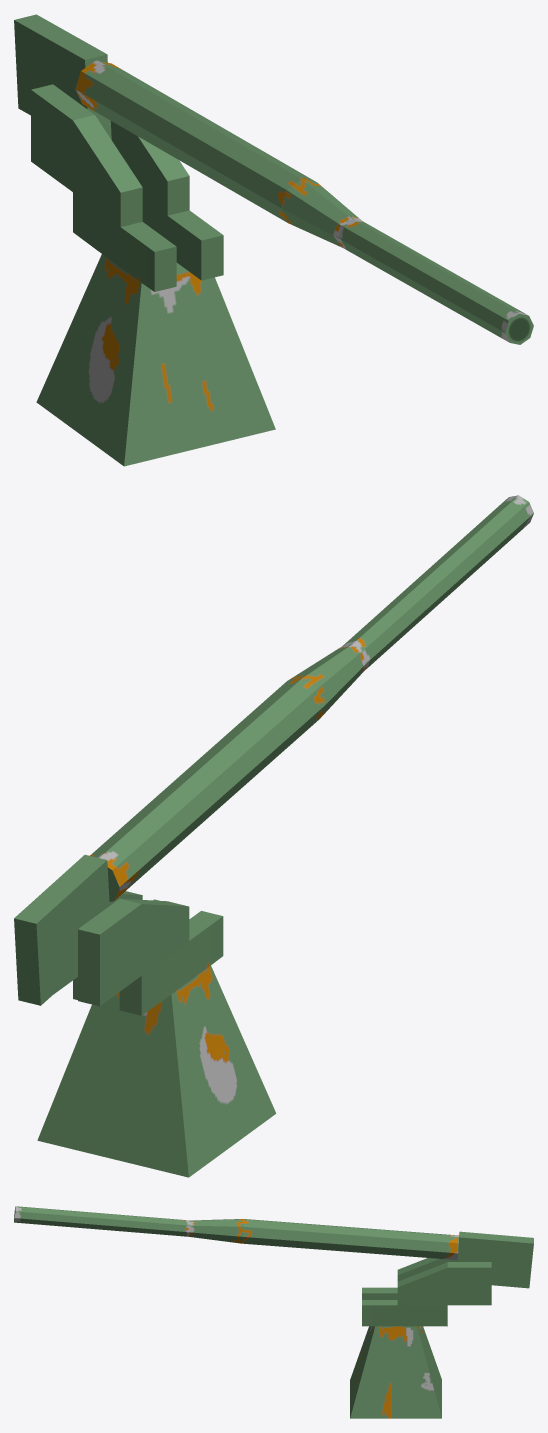
Rendered from AAgun.fbx.
3 renders of one model, top to bottom at view 1: azimuth 30°, elevation 25°; view 2: azimuth 150°, elevation 25°; view 3: azimuth 270°, elevation 25°, orthographic. The views are drawn at different scales.
Parts seen in each view (by area): view 1: AA_gun; view 2: AA_gun; view 3: AA_gun.
Boxes of the visible parts, x1,y1,x2,y2 form: AA_gun: (14, 14, 533, 466); AA_gun: (14, 495, 533, 1177); AA_gun: (14, 1206, 533, 1418).
Bounding box in the file's own units: 0.9531 × 2.2 × 5.39.
